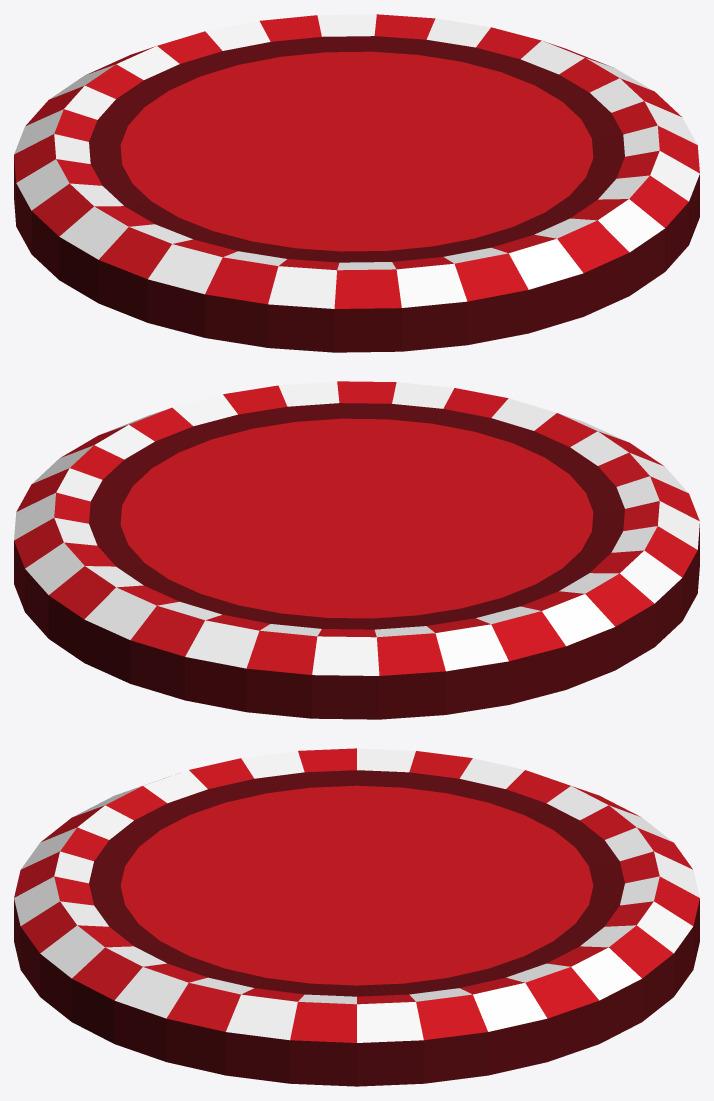
File: chip.obj
3 renders of one model, top to bottom at view 1: azimuth 30°, elevation 25°; view 2: azimuth 150°, elevation 25°; view 3: azimuth 270°, elevation 25°, orthographic.
Parts seen in each view (by area): view 1: Cylinder; view 2: Cylinder; view 3: Cylinder.
Part boxes in pixels (x1,y1,x2,y2): Cylinder: [14, 14, 699, 352]; Cylinder: [14, 381, 699, 719]; Cylinder: [14, 748, 699, 1086].
Size of the model in its own units: 0.1 by 0.0105 by 0.1.
